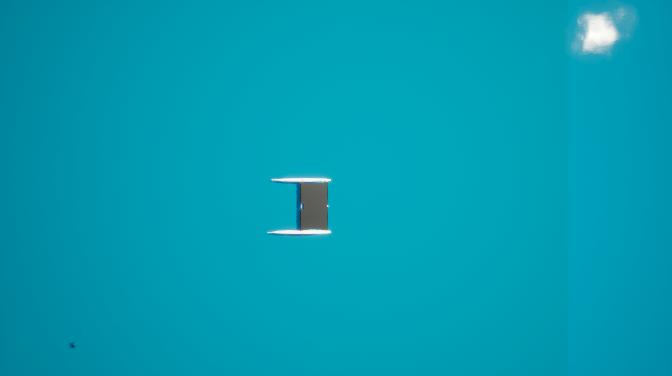boat: (268, 176, 333, 238)
drone: (67, 342, 78, 351)
land_base: (300, 182, 327, 230)
light_reflex: (566, 1, 643, 61)
